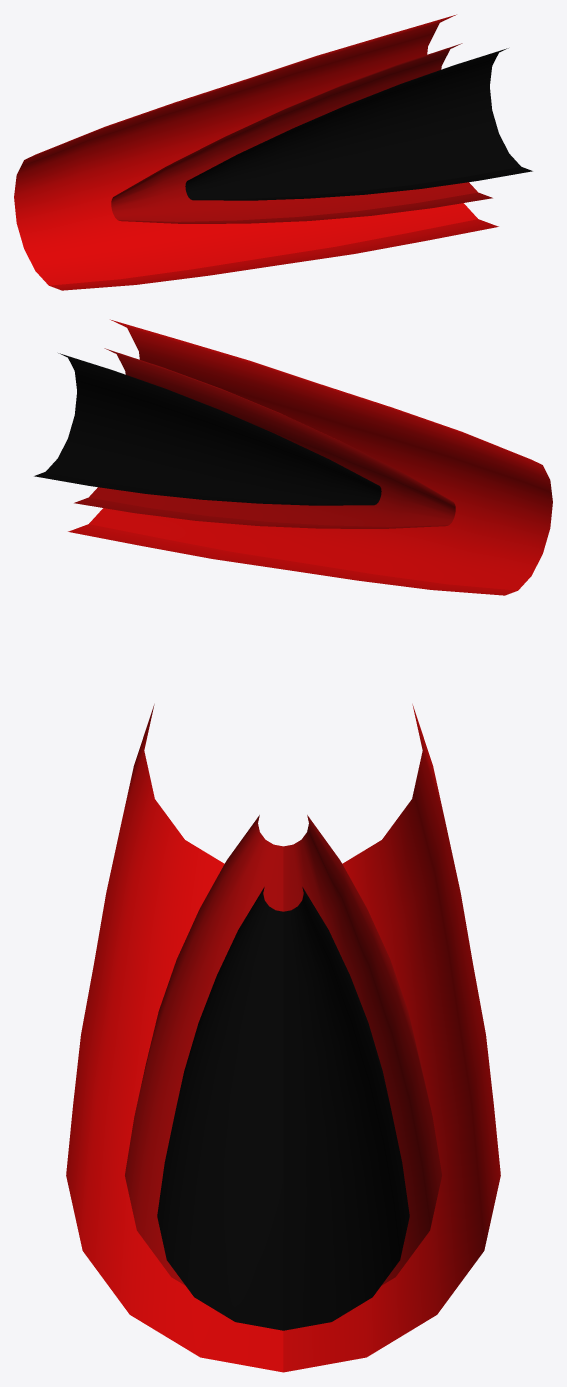
The model's file is engine_mainfire.glb.
3 renders of one model, top to bottom at view 1: azimuth 30°, elevation 25°; view 2: azimuth 150°, elevation 25°; view 3: azimuth 270°, elevation 25°, orthographic. The views are drawn at different scales.
Parts seen in each view (by area): view 1: MainFire.001; view 2: MainFire.001; view 3: MainFire.001.
Part boxes in pixels (left/top/right/bottom): MainFire.001: left=14, top=14, right=532, bottom=290; MainFire.001: left=34, top=319, right=552, bottom=595; MainFire.001: left=66, top=704, right=500, bottom=1372.
Size of the model in its own units: 11.16 by 4.45 by 4.45.
